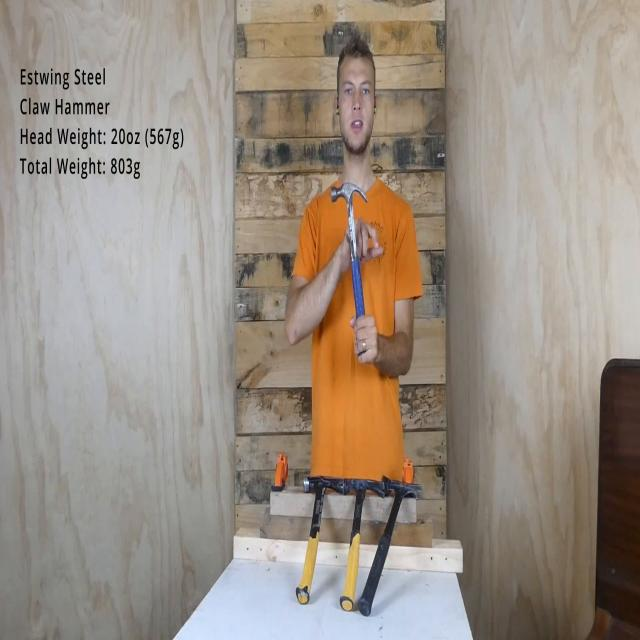hammer: (358, 476, 422, 616), (338, 476, 389, 614), (331, 183, 368, 355), (296, 475, 338, 604)
